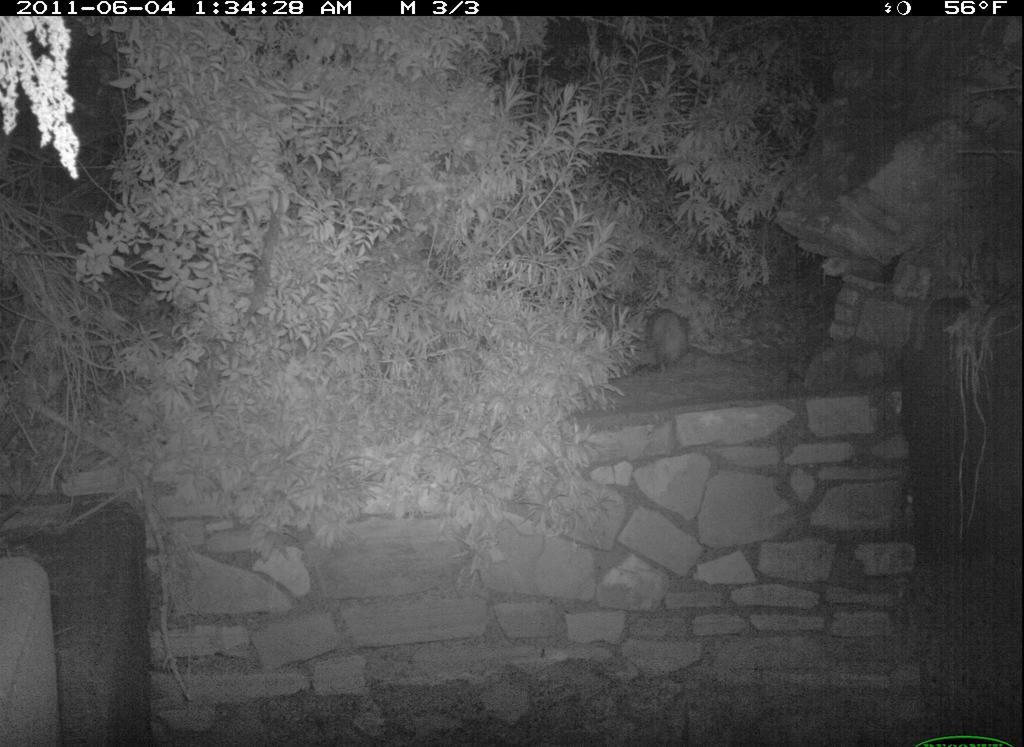opossum: (623, 282, 703, 383)
